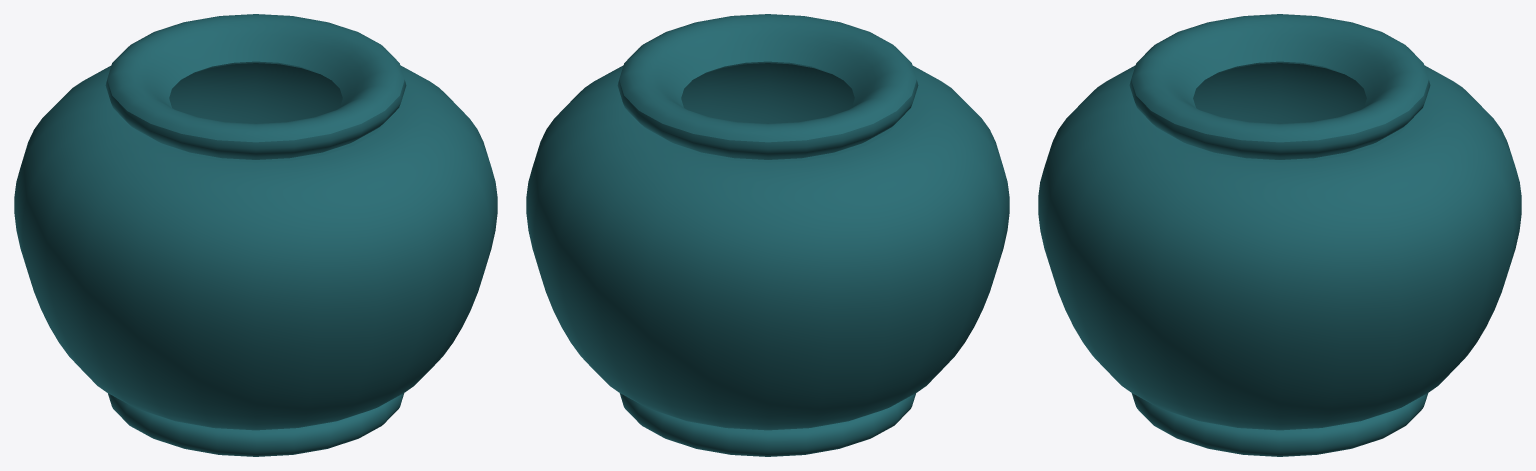
The model's file is FishBowlFinal.obj.
3 renders of one model, left to right at view 1: azimuth 30°, elevation 25°; view 2: azimuth 150°, elevation 25°; view 3: azimuth 270°, elevation 25°, orthographic.
Visible parts, largest first — view 1: FixingMaya:fishbowl; view 2: FixingMaya:fishbowl; view 3: FixingMaya:fishbowl.
Part boxes in pixels (<box>): FixingMaya:fishbowl: <box>14,14,497,456</box>; FixingMaya:fishbowl: <box>526,14,1009,456</box>; FixingMaya:fishbowl: <box>1038,14,1521,456</box>.
Bounding box in the file's own units: 28.35 × 21.09 × 28.35.
